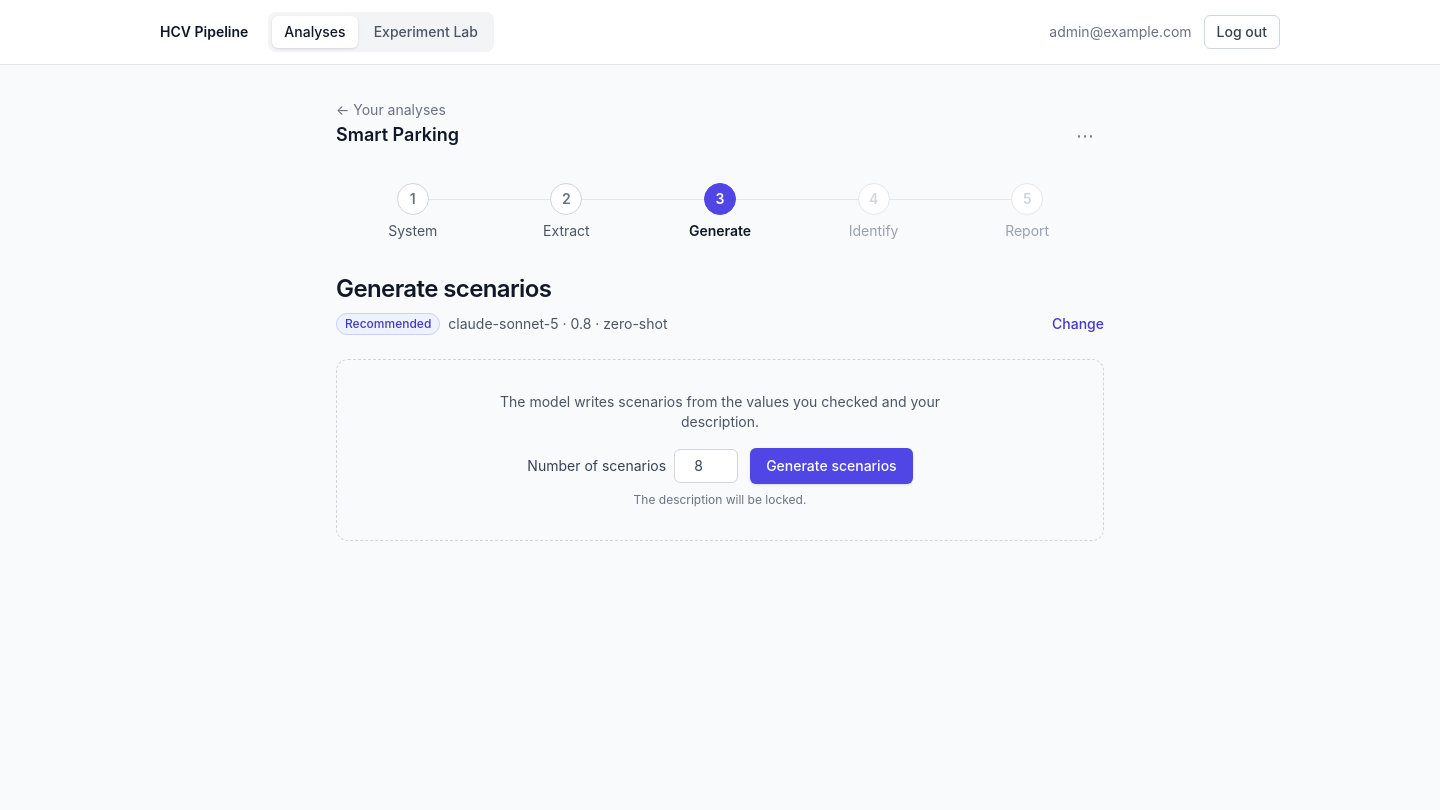
Settings panel › shows no hint when the catalogue fails to load
Expected: the number field labelled "Number of scenarios" is shown, [674, 449, 738, 483]
Click the button "Change" at [1078, 324], box [1052, 314, 1104, 334]
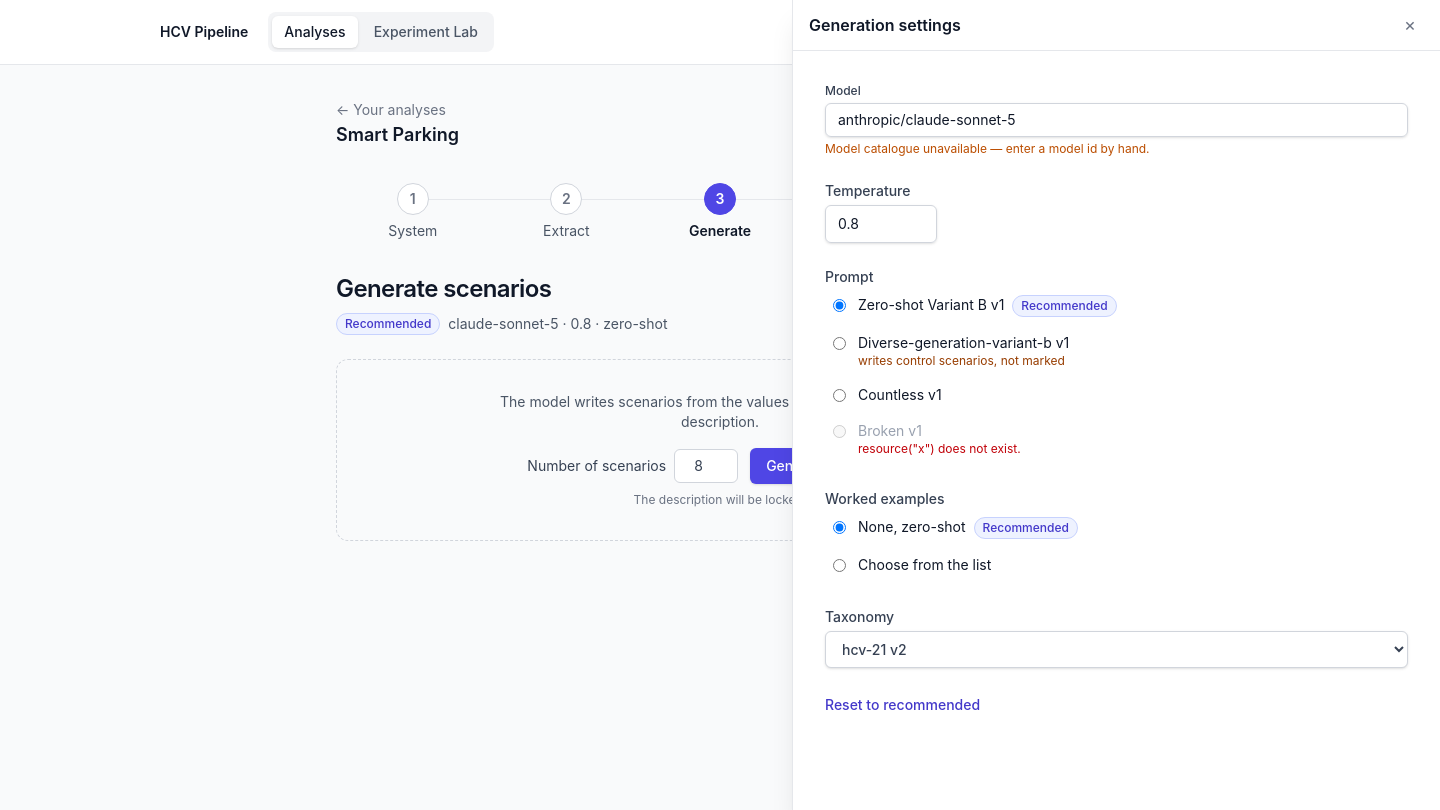
Result: the text "Model catalogue unavailable — enter a model id by hand." is shown at [825, 141, 1150, 156]
